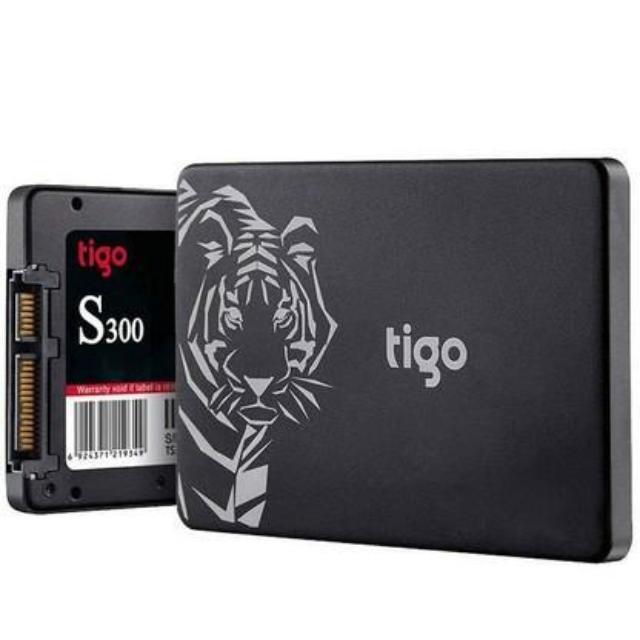DISK: (167, 153, 638, 575), (3, 170, 177, 518)
